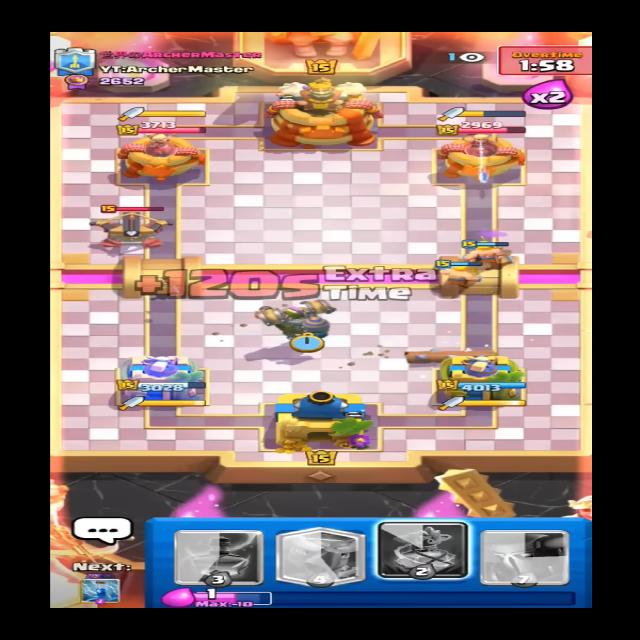log: (394, 342, 504, 365)
x-bow: (90, 200, 178, 253)
